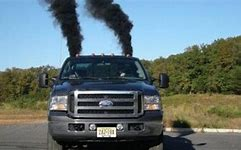smoke: (84, 1, 133, 56), (46, 1, 83, 55)
